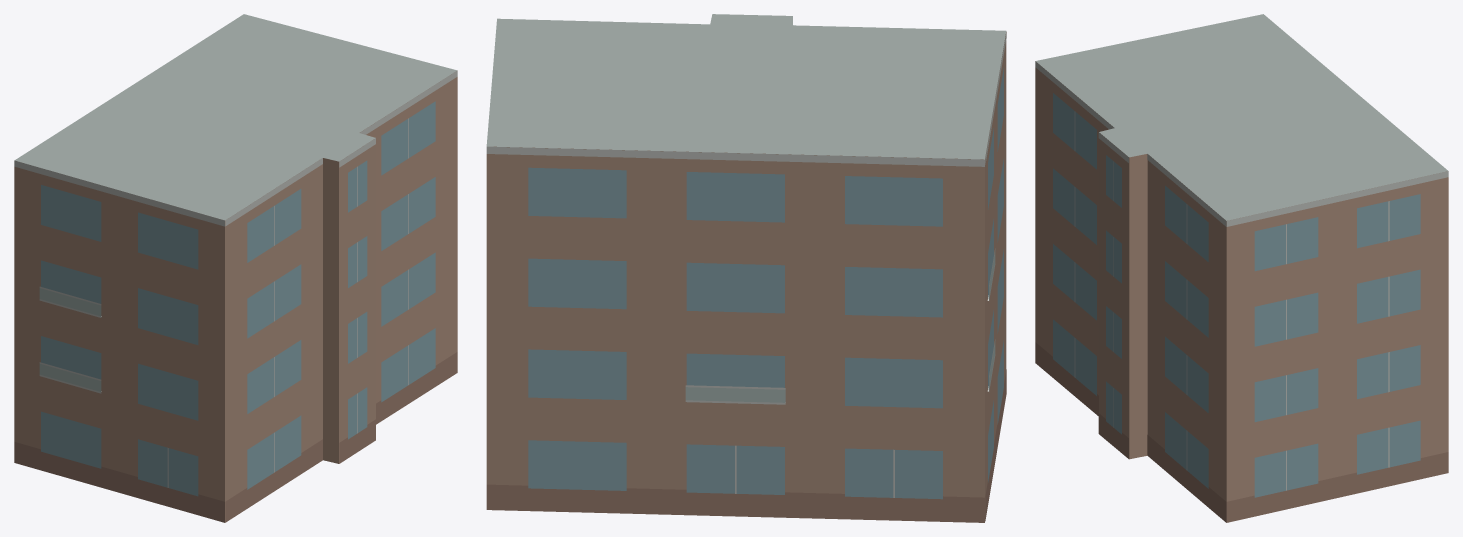
File: survey-upis-32809489.glb
3 views of the same model, side by side, from view 1: azimuth 30°, elevation 25°; view 2: azimuth 150°, elevation 25°; view 3: azimuth 270°, elevation 25° (orthographic). The views are drawn at different scales.
Parts seen in each view (by area): view 1: survey-upis-32809489.tmp; view 2: survey-upis-32809489.tmp; view 3: survey-upis-32809489.tmp.
Part boxes in pixels (<box>): survey-upis-32809489.tmp: <box>14,14,457,522</box>; survey-upis-32809489.tmp: <box>486,14,1006,522</box>; survey-upis-32809489.tmp: <box>1035,14,1448,522</box>.
Bounding box in the file's own units: 17.57 × 11.95 × 14.83.
